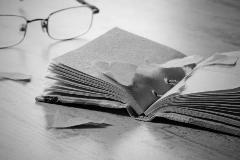paper: (35, 26, 239, 136), (45, 110, 105, 128), (0, 72, 32, 80)
